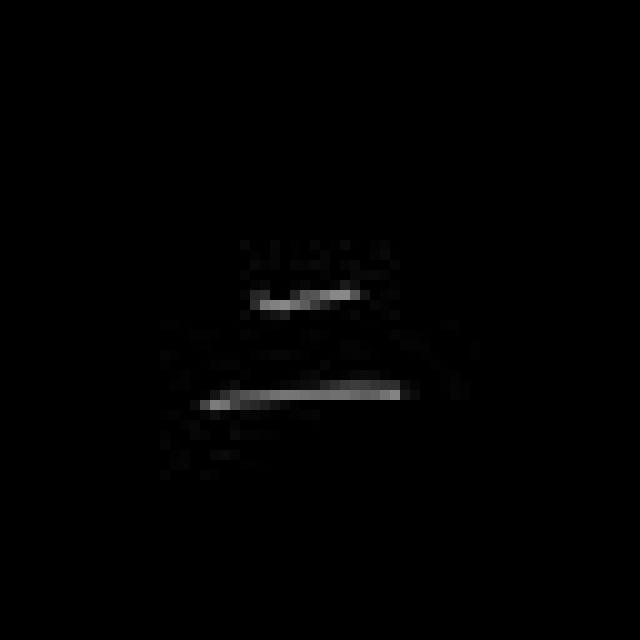2 -two-: (190, 274, 411, 434)
